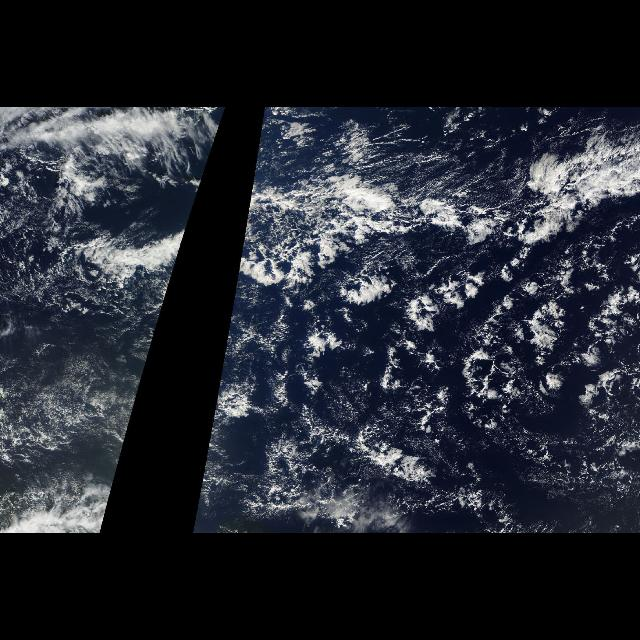Fish: (235, 132, 640, 292), (48, 132, 218, 292)
Gravel: (306, 252, 640, 498)
Sugar: (0, 282, 170, 483), (278, 114, 506, 206), (205, 282, 239, 468)
